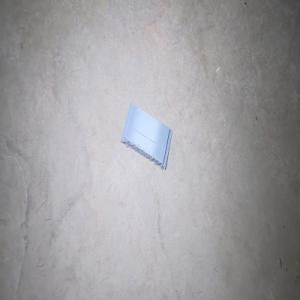PlasticPart: (120, 103, 172, 170)
